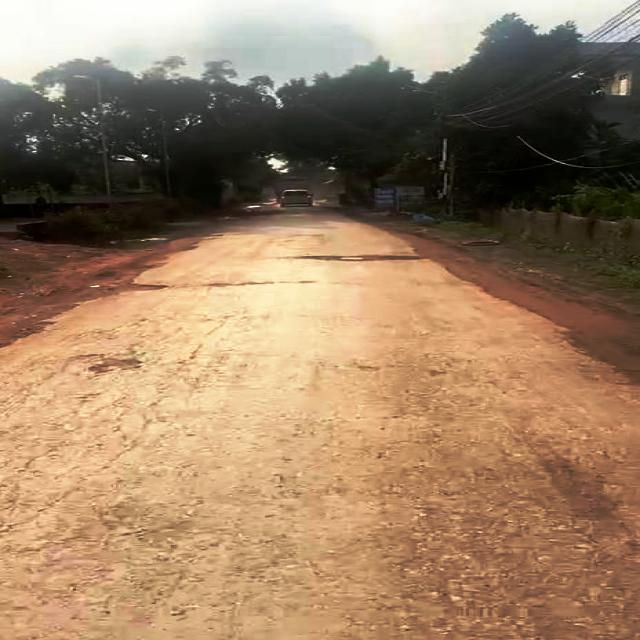pothole: (302, 249, 429, 263)
